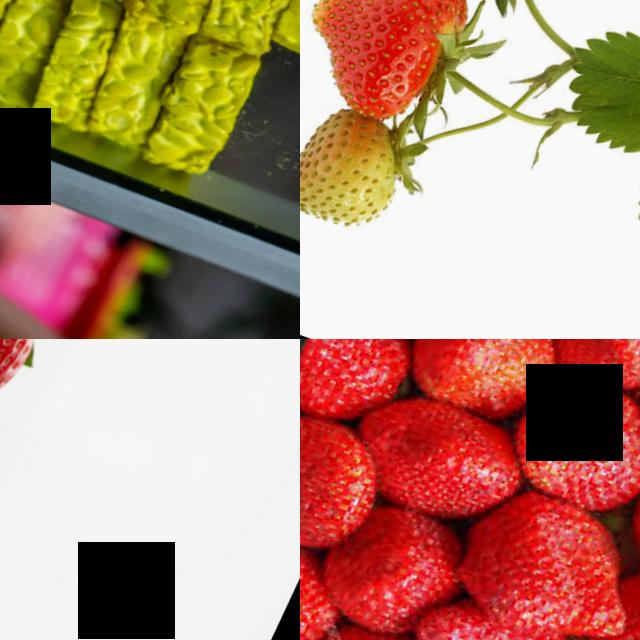strawberry: (447, 475, 640, 640), (300, 0, 498, 135), (300, 93, 446, 250), (330, 498, 476, 639), (409, 339, 561, 423), (540, 339, 640, 399), (300, 550, 354, 640), (439, 613, 593, 640)
